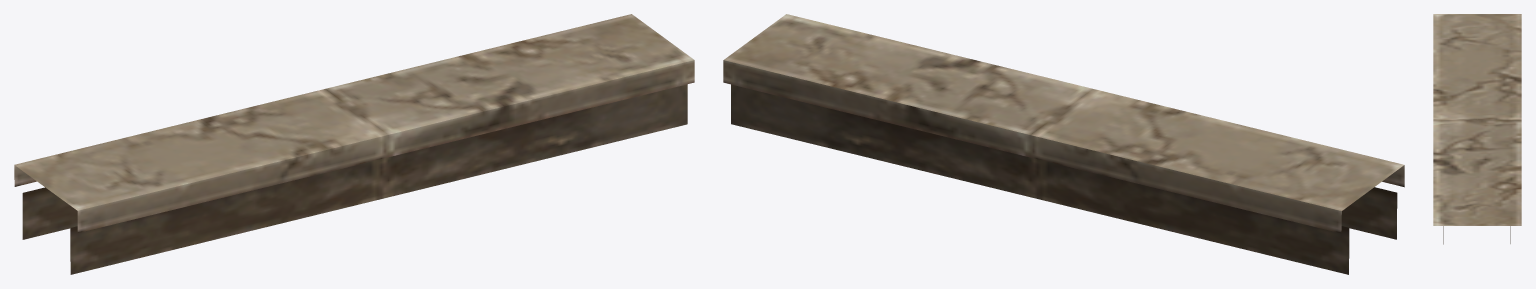
File: rysd_langan_c.FBX
The picture shows the model from 3 angles, left to right: view 1: azimuth 30°, elevation 25°; view 2: azimuth 150°, elevation 25°; view 3: azimuth 270°, elevation 25°; orthographic projection. The views are drawn at different scales.
Parts seen in each view (by area): view 1: langan_c; view 2: langan_c; view 3: langan_c.
Boxes of the visible parts, x1=… form: langan_c: x1=14, y1=14, x2=694, y2=274; langan_c: x1=723, y1=14, x2=1404, y2=274; langan_c: x1=1433, y1=14, x2=1521, y2=244.
Bounding box in the file's own units: 223 × 24.02 × 39.32.
